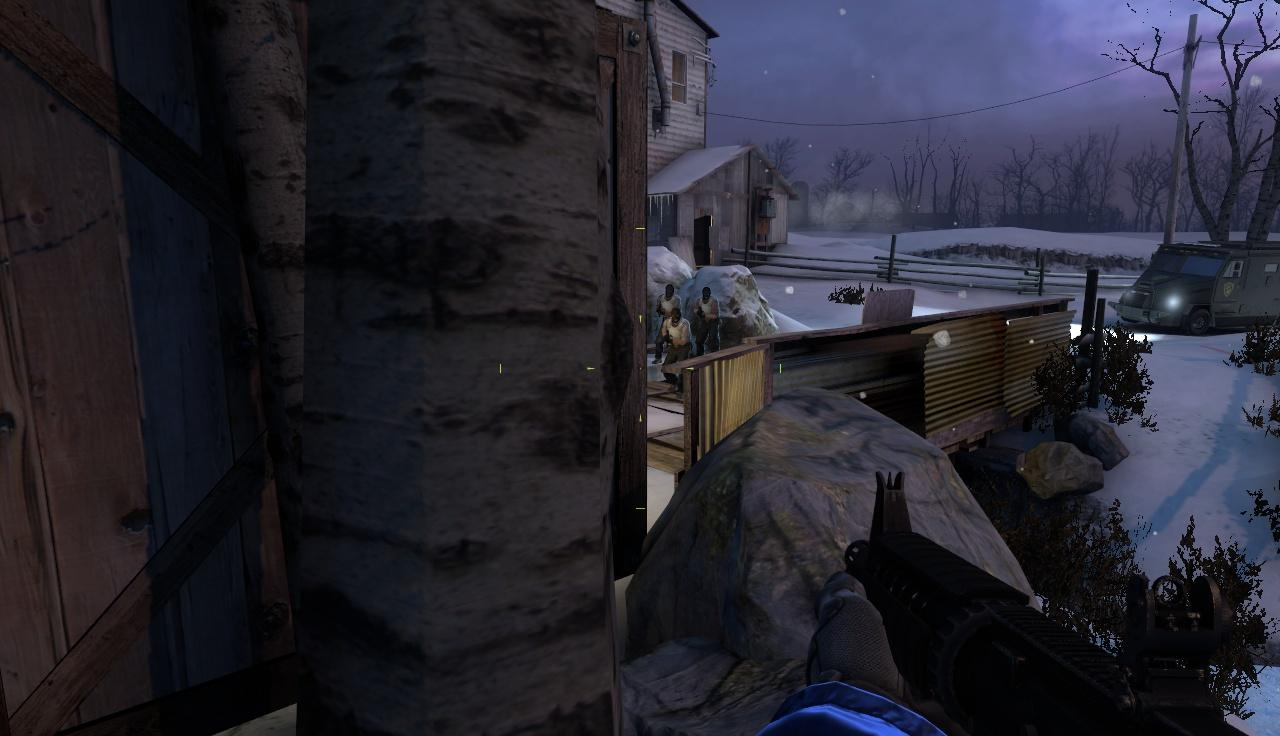rifle: (846, 471, 1271, 736)
tt: (695, 287, 719, 350), (663, 309, 690, 360), (656, 283, 681, 309)
tthead: (671, 309, 682, 323), (665, 284, 675, 299), (702, 287, 710, 301)
